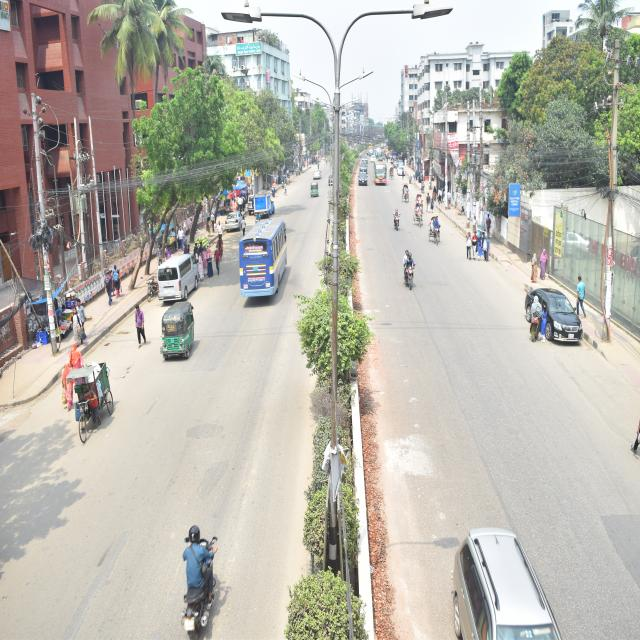bus: (235, 208, 294, 318), (370, 152, 394, 193)
car: (442, 504, 575, 640), (507, 270, 606, 384), (216, 192, 248, 239), (352, 167, 375, 205), (306, 161, 330, 192), (242, 180, 260, 217), (396, 156, 413, 186), (355, 154, 368, 177), (366, 149, 378, 162)
microbus: (141, 234, 206, 312)
motorbike: (175, 521, 234, 640), (398, 250, 426, 323), (388, 203, 406, 239)
pickup-van: (248, 182, 280, 216)
